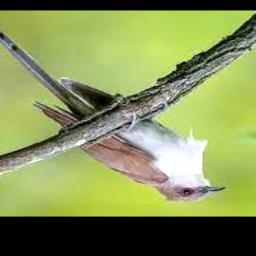Cuckoo: (0, 24, 226, 204)
